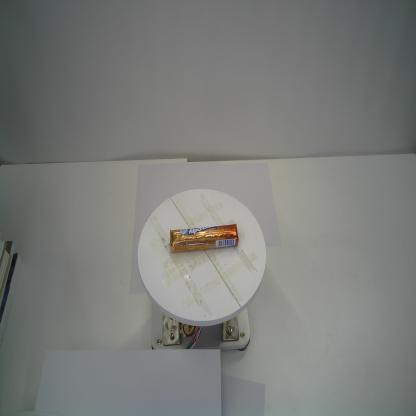Candy: (169, 223, 239, 254)
